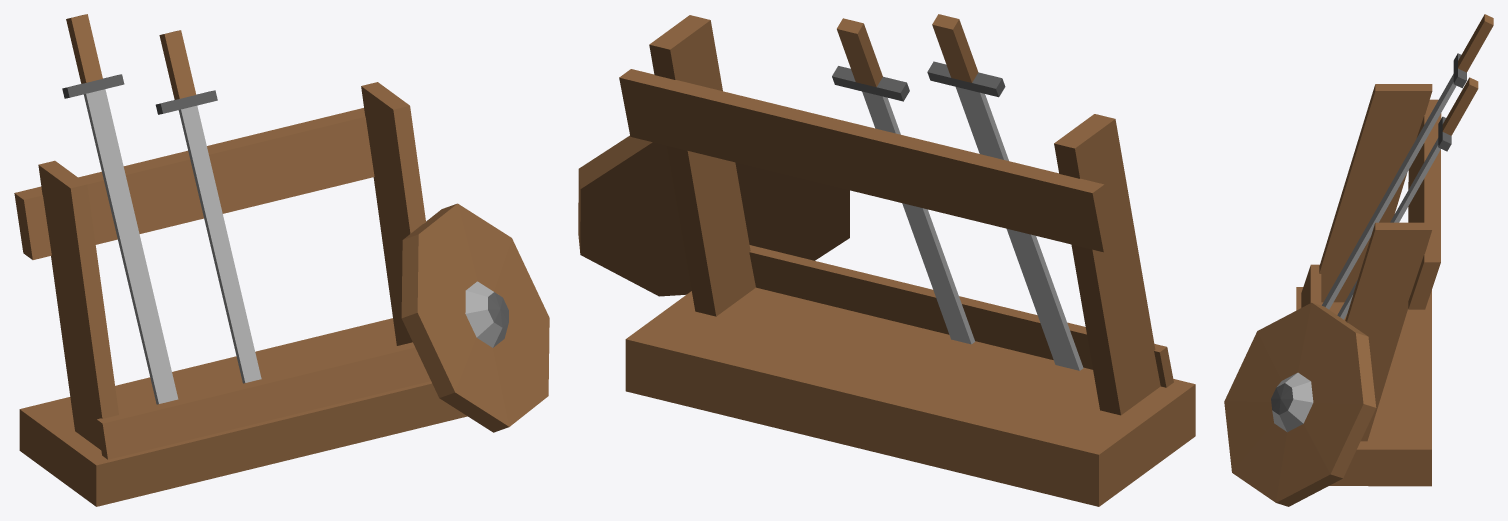
Rendered from Rack_mat.fbx.
The picture shows the model from 3 angles, left to right: view 1: azimuth 30°, elevation 25°; view 2: azimuth 150°, elevation 25°; view 3: azimuth 270°, elevation 25°; orthographic projection. The views are drawn at different scales.
Parts seen in each view (by area): view 1: Rack_mat; view 2: Rack_mat; view 3: Rack_mat.
Part boxes in pixels (bbox=[...]): Rack_mat: bbox=[14, 14, 549, 506]; Rack_mat: bbox=[578, 14, 1195, 506]; Rack_mat: bbox=[1224, 14, 1493, 506].
Size of the model in its own units: 1.19 by 0.9385 by 0.6649.
